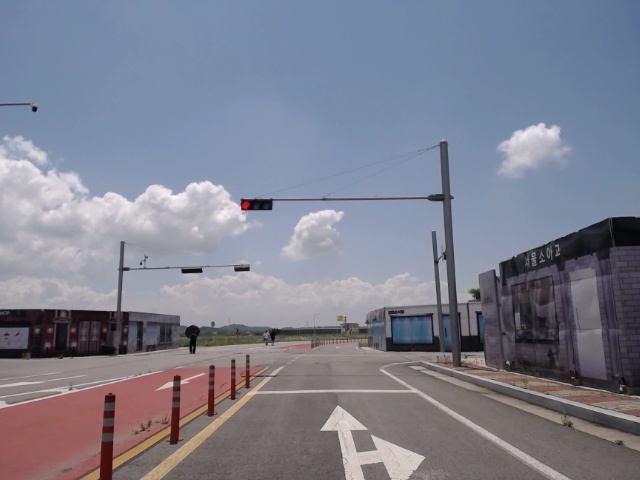red_3: (237, 198, 274, 210)
